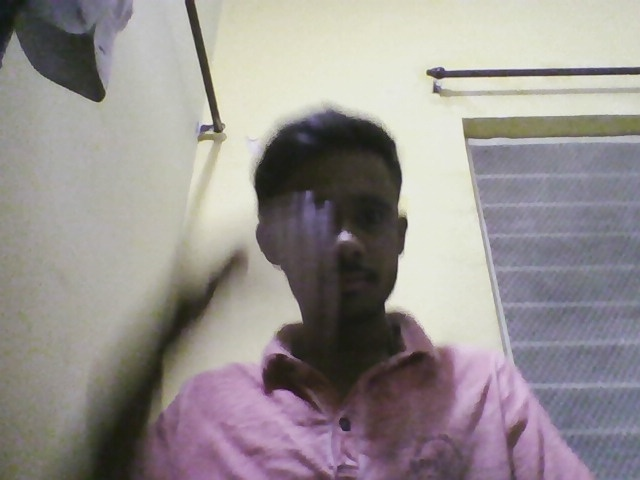thankyou: (127, 186, 334, 412)
